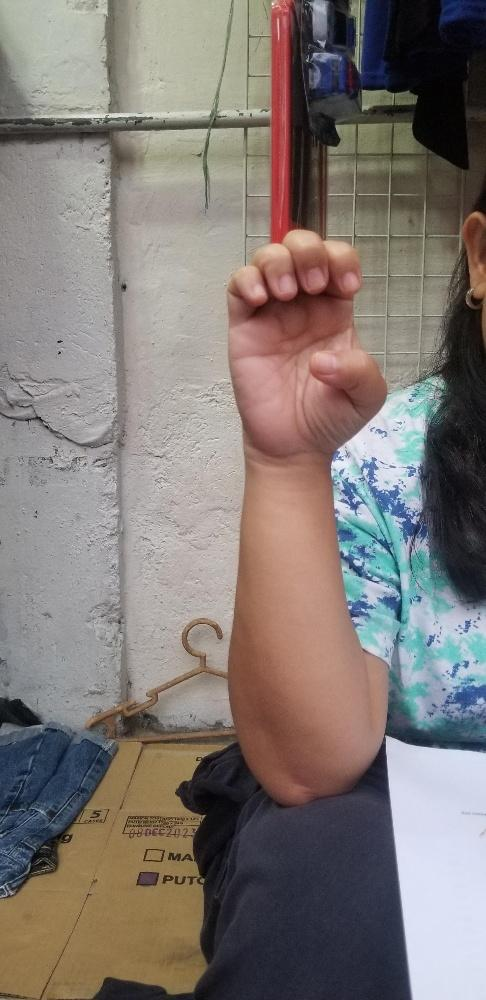e: (226, 226, 387, 450)
